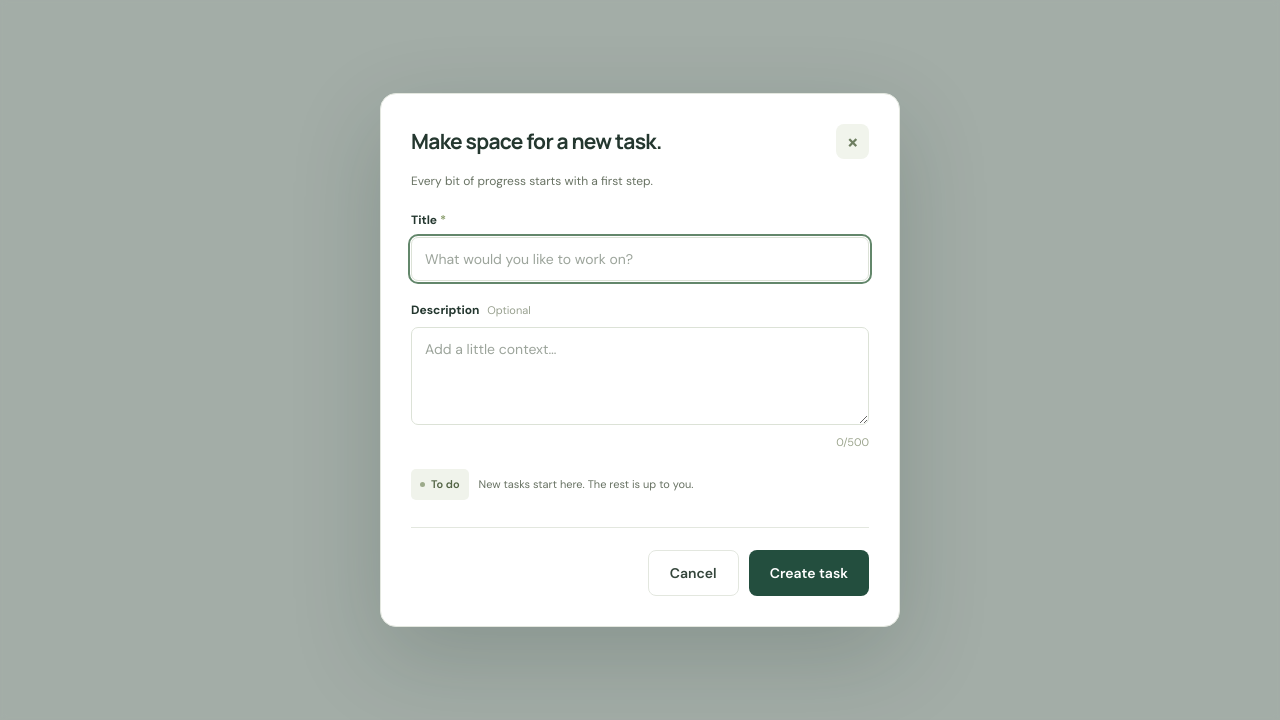
Test: essential workflows › rejects whitespace padded short titles
Step 1. Type " a " into the field labelled "Title *" → (640, 259), box [411, 237, 869, 281]
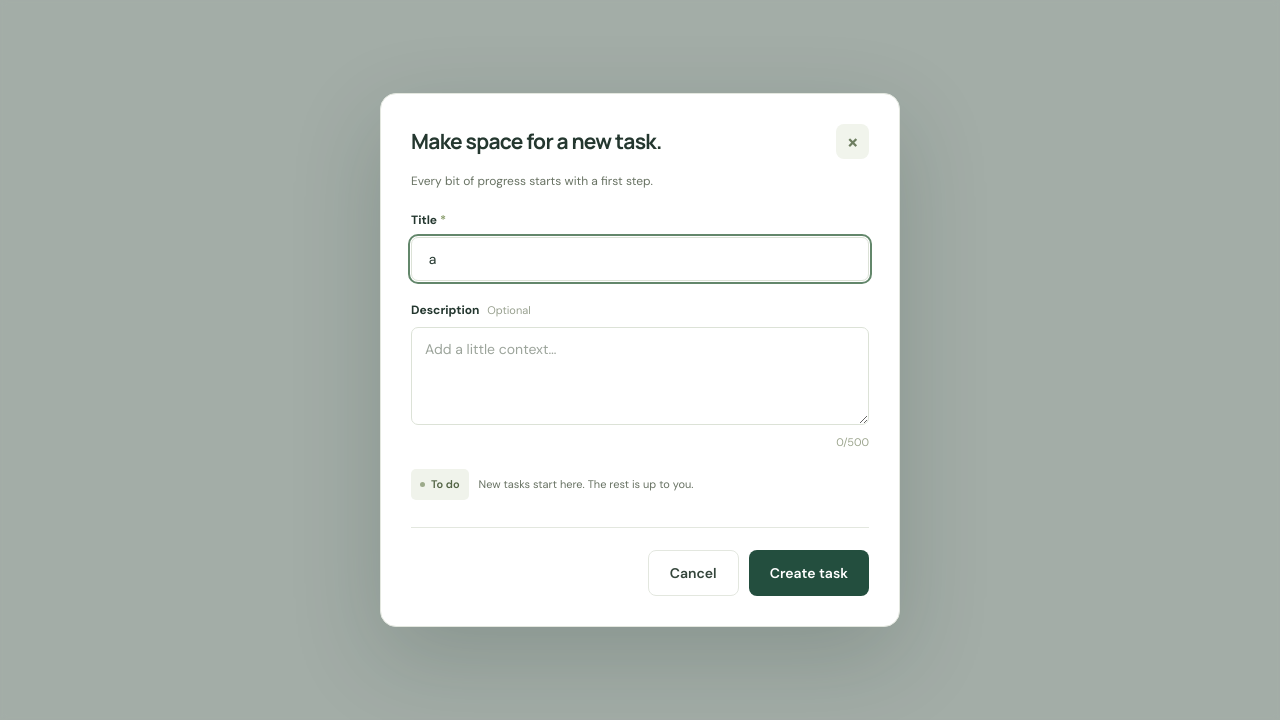
Step 2. Click the button "Create task" → click(809, 573), box [749, 550, 869, 596]
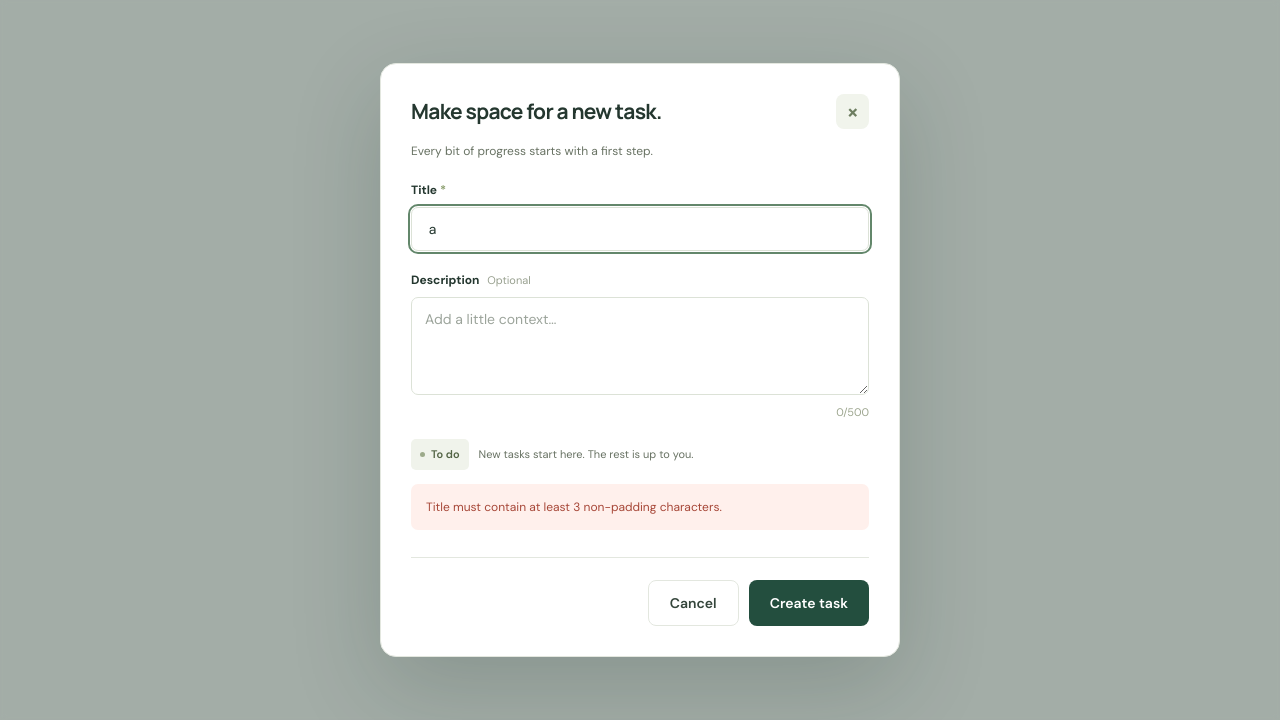
Check: the message shows "at least 3", box [426, 499, 722, 515]
